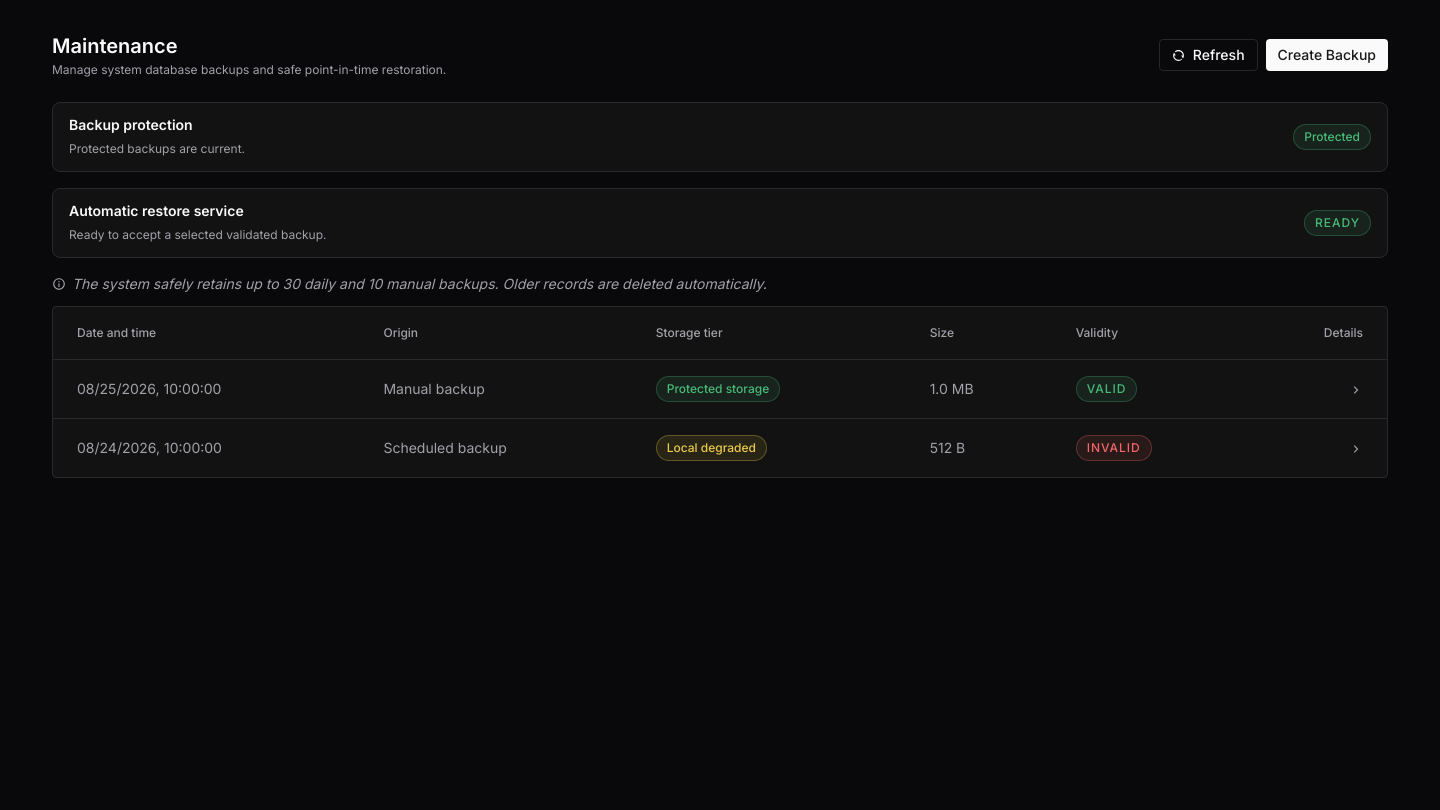
it: Maintenance page restore point picker › requires expanding a valid row and repeats its metadata in the confirmation modal
Expected: the button "Restore this backup…" is not shown
Click the row that starts with "Manual backup".
click(720, 389)  # box [53,360,1387,418]
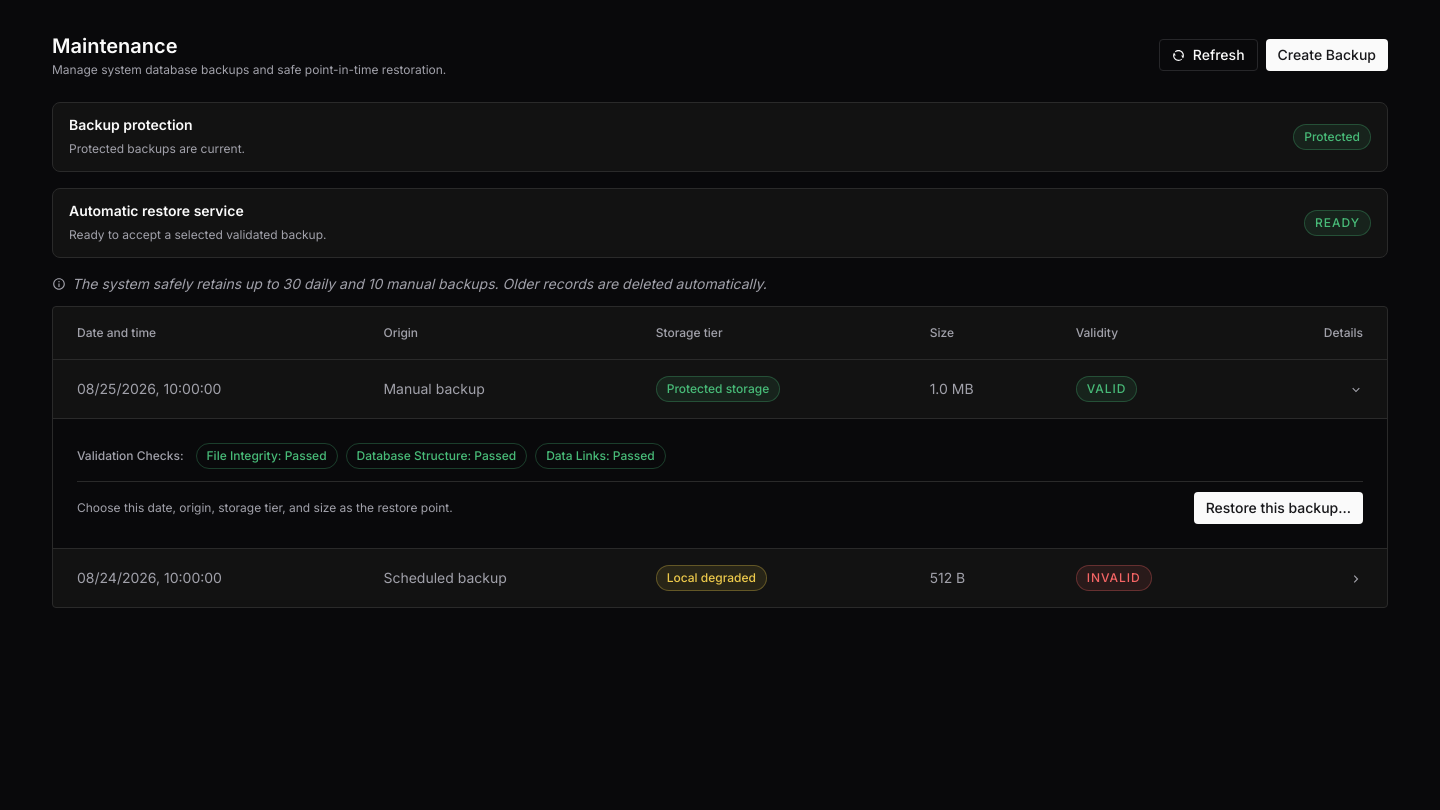
Expected: the button "Restore this backup…" is enabled
Click the button "Restore this backup…".
click(1278, 508)  # box [1194,492,1363,524]
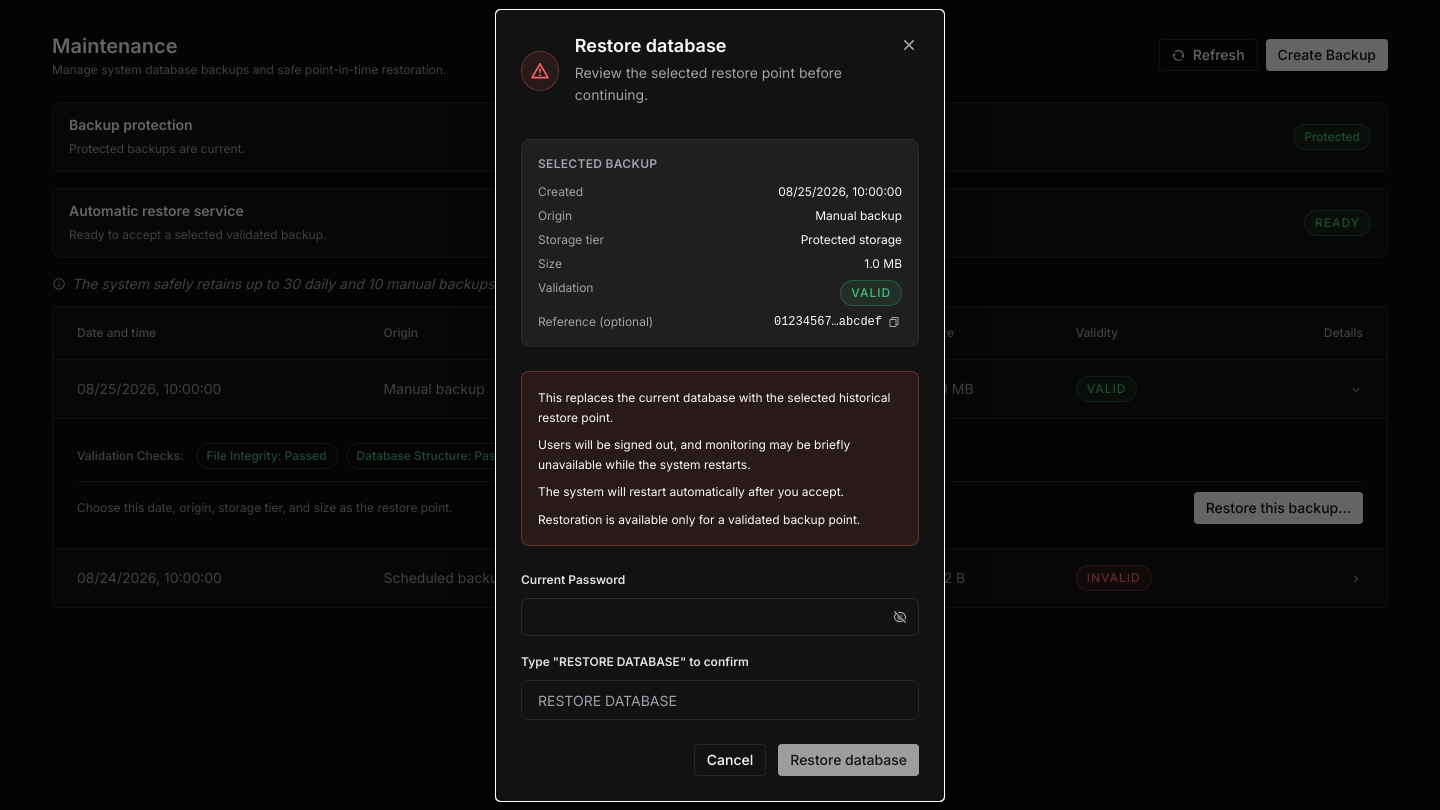
Expected: the heading "Restore database" is shown, [575,34,726,56]
Expected: the text "01234567…abcdef" is shown, [774,314,882,330]
Expected: the button named "Copy full backup ID" is shown, [886,314,902,330]
